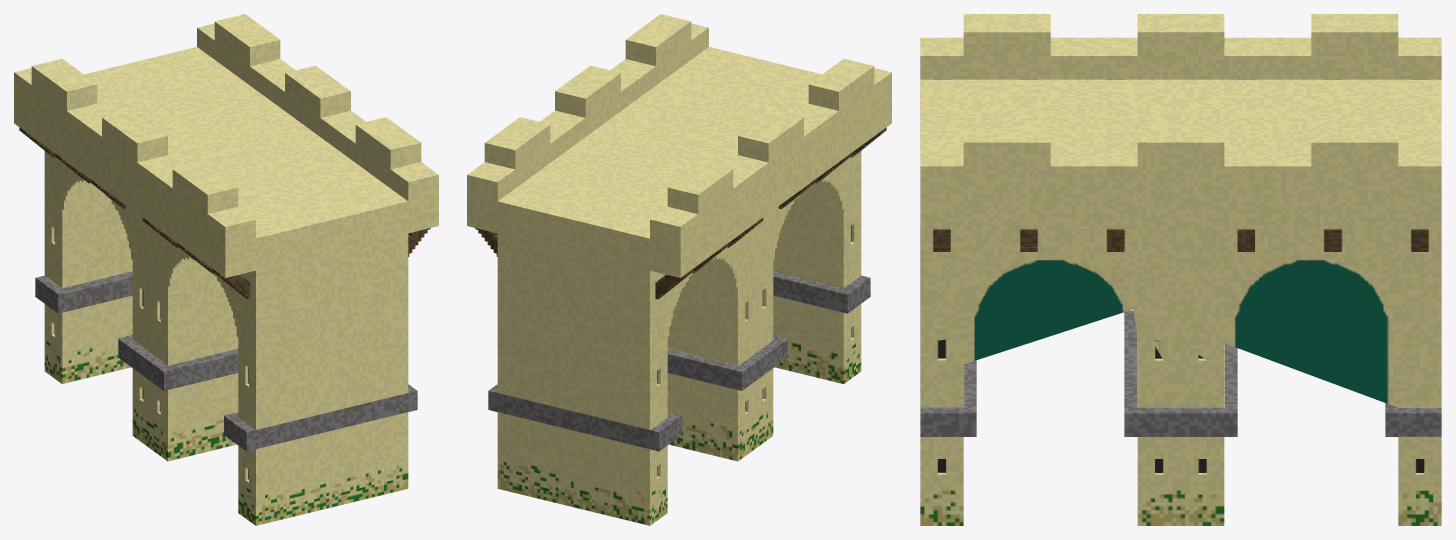
The model's file is Bridge_Big_Body.obj.
The picture shows the model from 3 angles, left to right: view 1: azimuth 30°, elevation 25°; view 2: azimuth 150°, elevation 25°; view 3: azimuth 270°, elevation 25°; orthographic projection. The views are drawn at different scales.
Visible parts, largest first — view 1: Bridge_Big_Body_Medieval_Assets-13.001; view 2: Bridge_Big_Body_Medieval_Assets-13.001; view 3: Bridge_Big_Body_Medieval_Assets-13.001.
Boxes of the visible parts, x1=… form: Bridge_Big_Body_Medieval_Assets-13.001: x1=14, y1=14, x2=438, y2=525; Bridge_Big_Body_Medieval_Assets-13.001: x1=467, y1=14, x2=891, y2=525; Bridge_Big_Body_Medieval_Assets-13.001: x1=920, y1=14, x2=1441, y2=525.
Size of the model in its own units: 7 by 10.2 by 12.
